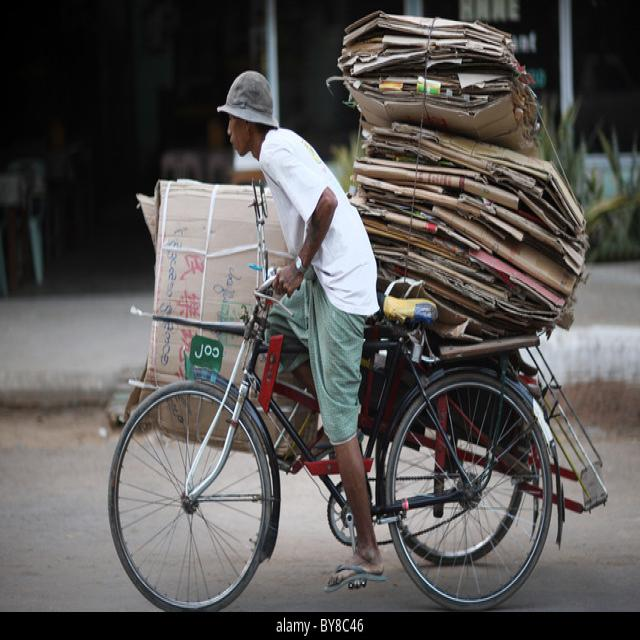cardboard: (336, 16, 580, 320), (145, 181, 284, 458)
